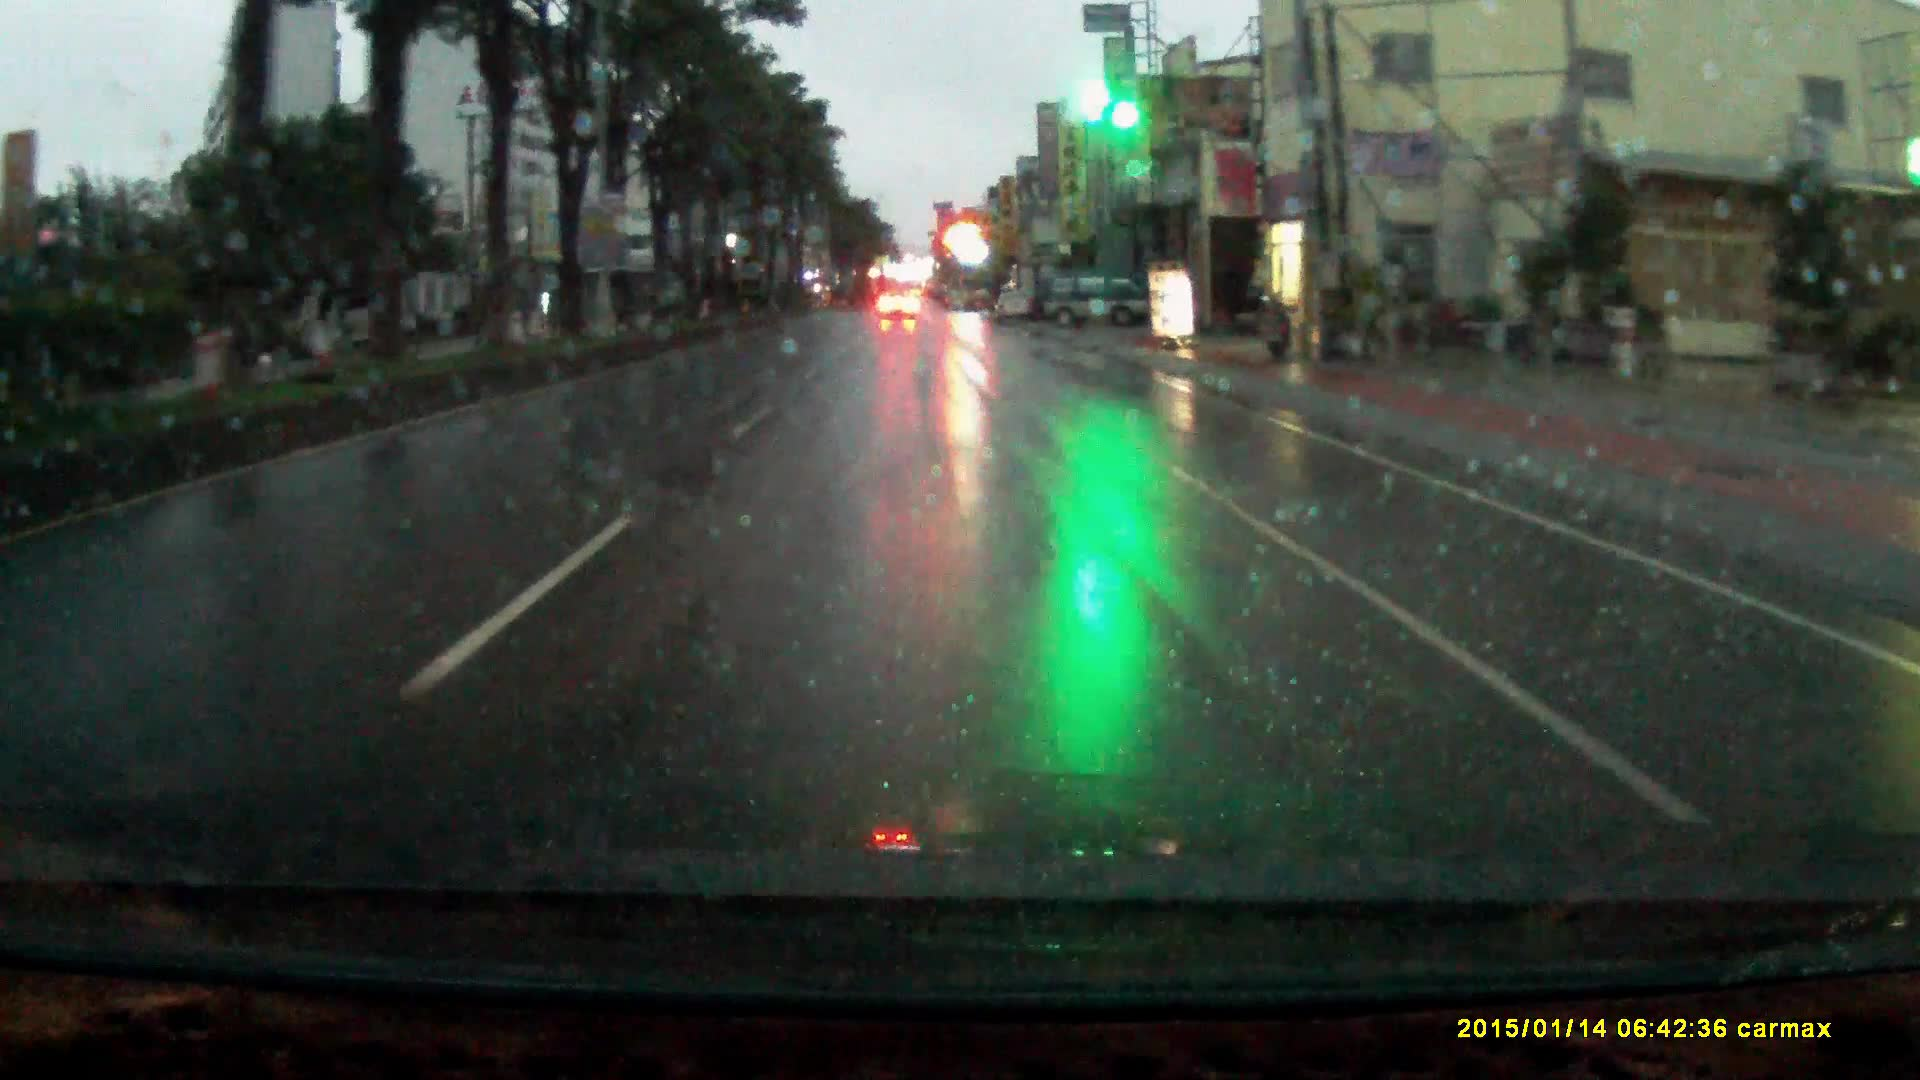vehicle: (1044, 269, 1151, 328), (994, 290, 1035, 326), (878, 290, 922, 323)
